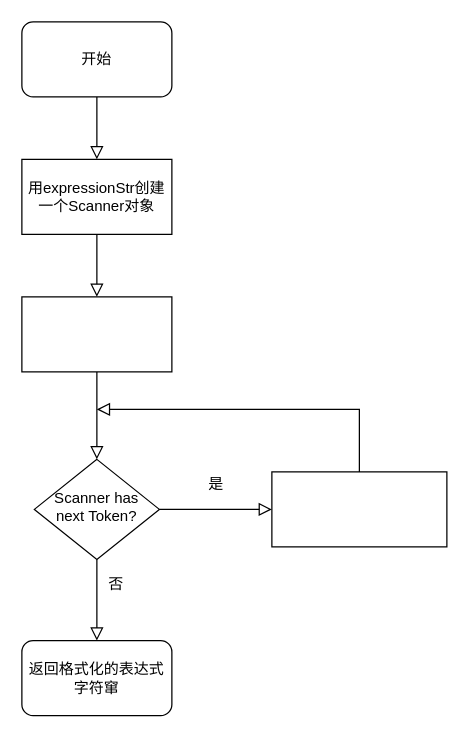
The diagram is 469 pixels wide and 738 high, and some of its shapes have lost their labels. Here are the shapes that lost their labels. From the top down, the centre of each, then its label:
pixel 96 334: 创建一个格式化的表达式字符串
pixel 359 509: 将next Token转换成字符串并追加到格式化的表达式字符串末尾，同时追加一个空格字符
